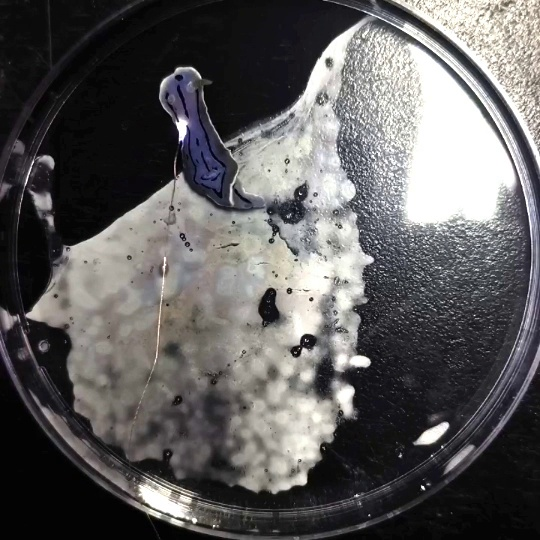sea-slug: (49, 80, 220, 195)
